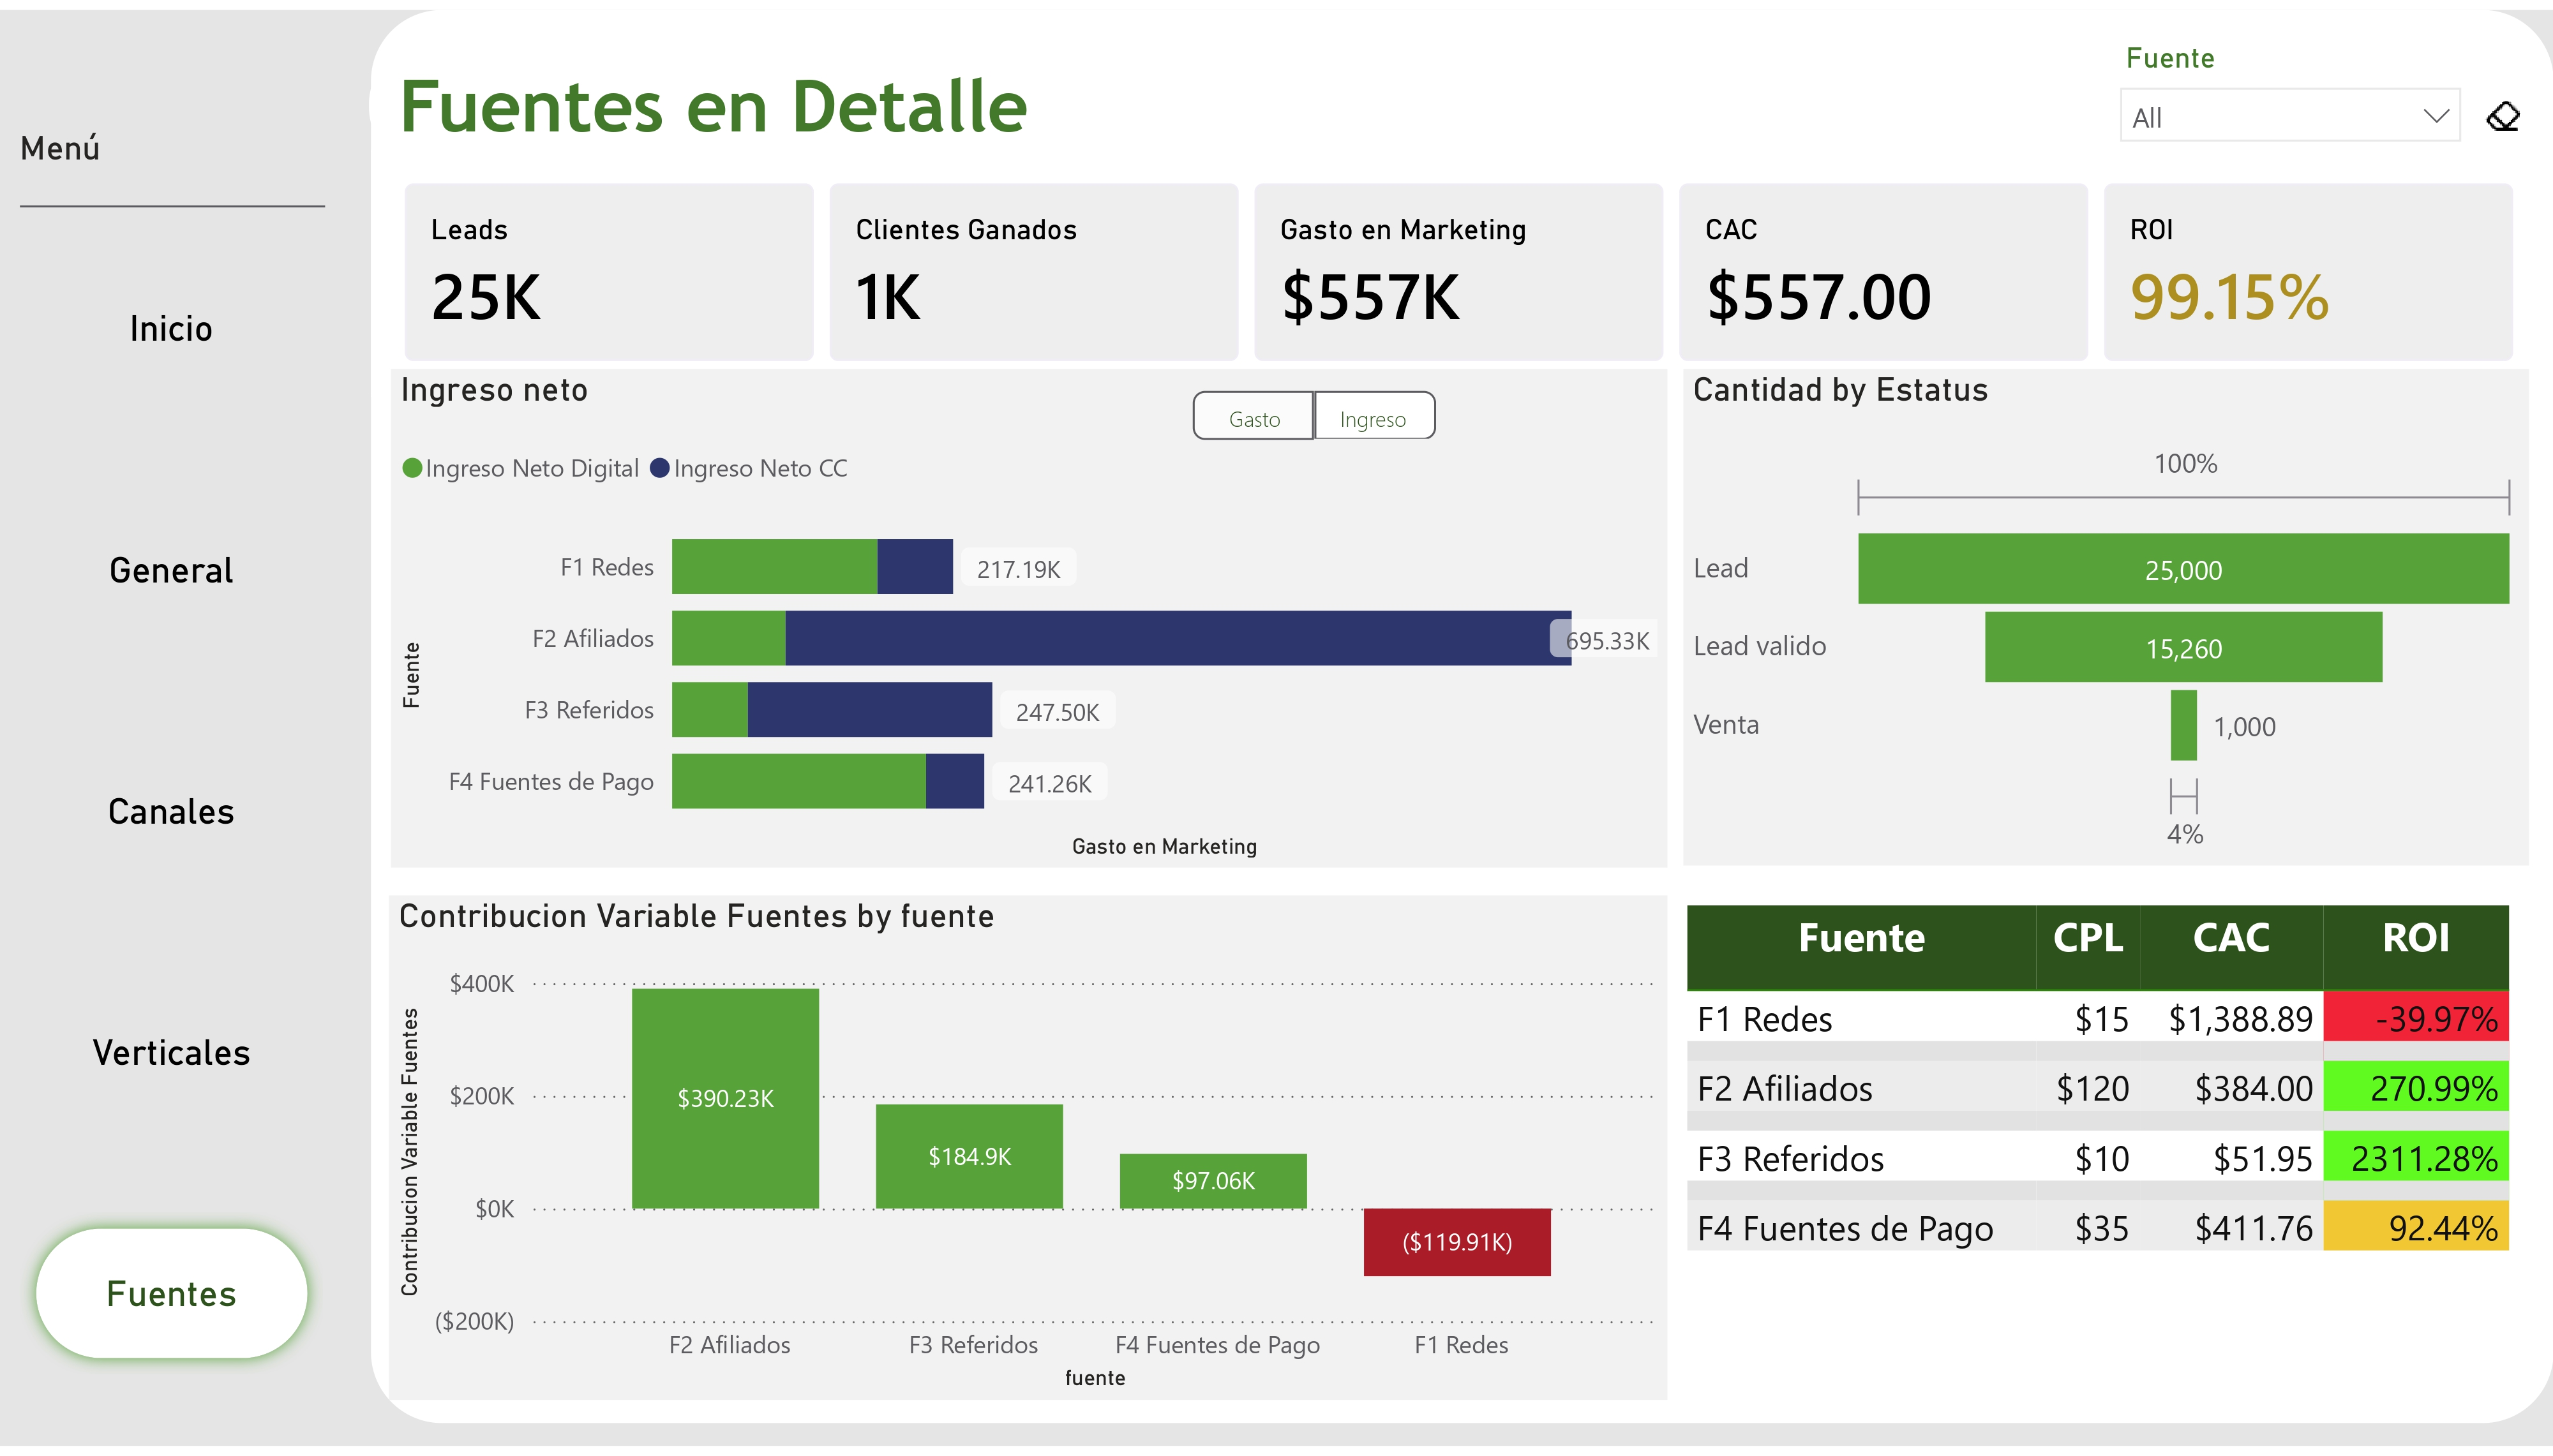

Layout of this report page (visuals, bound fields, positions):
{"tool":"powerbi","page":{"name":"Fuentes","canvas":[1280,720],"ordinal":4},"visuals":[{"type":"pageNavigator","title":"Menú","box":[10,58.6,152.9,627.1],"z":0},{"type":"shape","box":[186.2,0,1094.3,708.6],"z":1000},{"type":"textbox","title":"Fuentes en Detalle","box":[185.3,17.4,1083.5,62.2],"z":2000},{"type":"cardVisual","fields":{"Data":["Sum(Fuentes.leads)","Fuentes.Ventas por fuente","Fuentes.Gasto en Marketing","Fuentes.CAC","Fuentes.ROI"]},"box":[186.2,70,1093.8,123.8],"z":3000},{"type":"slicer","fields":{"Values":["Fuentes.fuente"]},"box":[1052.5,11.2,191.2,58.8],"z":4000},{"type":"funnel","fields":{"Category":["TablaEtapas.Estatus"],"Y":["TablaEtapas.Valores por estatus"]},"box":[844.3,180,424.2,248.8],"z":5000},{"type":"columnChart","fields":{"Category":["Fuentes.fuente"],"Y":["Fuentes.Contribucion Variable Fuentes"]},"box":[195.3,444.1,640.6,252.5],"z":7000},{"type":"barChart","title":"Ingreso neto","fields":{"Category":["Fuentes.fuente"],"Y":["Fuentes.Ingreso Neto Digital","Fuentes.Ingreso Neto CC"]},"box":[195.7,180,640,250],"z":8000},{"type":"actionButton","box":[597.7,190.8,60.8,24.6],"z":9000},{"type":"actionButton","box":[649.3,190.3,61,24.9],"z":10000},{"type":"tableEx","fields":{"Values":["Fuentes.fuente","Max(Fuentes.cpl)","Fuentes.CAC","Fuentes.ROI"]},"box":[840,444.3,424.3,241.4],"z":11000},{"type":"image","box":[1246.4,41.1,17.9,23.6],"z":12000}]}

Visuals, with their boxes in screenshot pixels (x1, y1, x2, y2), scaled from the page's 1280x720 canvas onto the 2553x1456 screenshot:
"Menú" pageNavigator: [x1=20, y1=119, x2=325, y2=1386]
shape: [x1=371, y1=0, x2=2552, y2=1433]
"Fuentes en Detalle" textbox: [x1=370, y1=35, x2=2531, y2=161]
cardVisual - Sum(Fuentes.leads) x Fuentes.Ventas por fuente: [x1=371, y1=142, x2=2552, y2=392]
slicer - Fuentes.fuente: [x1=2099, y1=22, x2=2481, y2=142]
funnel - TablaEtapas.Estatus x TablaEtapas.Valores por estatus: [x1=1684, y1=364, x2=2530, y2=867]
columnChart - Fuentes.fuente x Fuentes.Contribucion Variable Fuentes: [x1=389, y1=898, x2=1667, y2=1409]
"Ingreso neto" barChart: [x1=391, y1=364, x2=1667, y2=870]
actionButton: [x1=1192, y1=386, x2=1314, y2=436]
actionButton: [x1=1295, y1=385, x2=1417, y2=435]
tableEx - Fuentes.fuente x Max(Fuentes.cpl): [x1=1675, y1=898, x2=2522, y2=1386]
image: [x1=2486, y1=83, x2=2522, y2=131]
